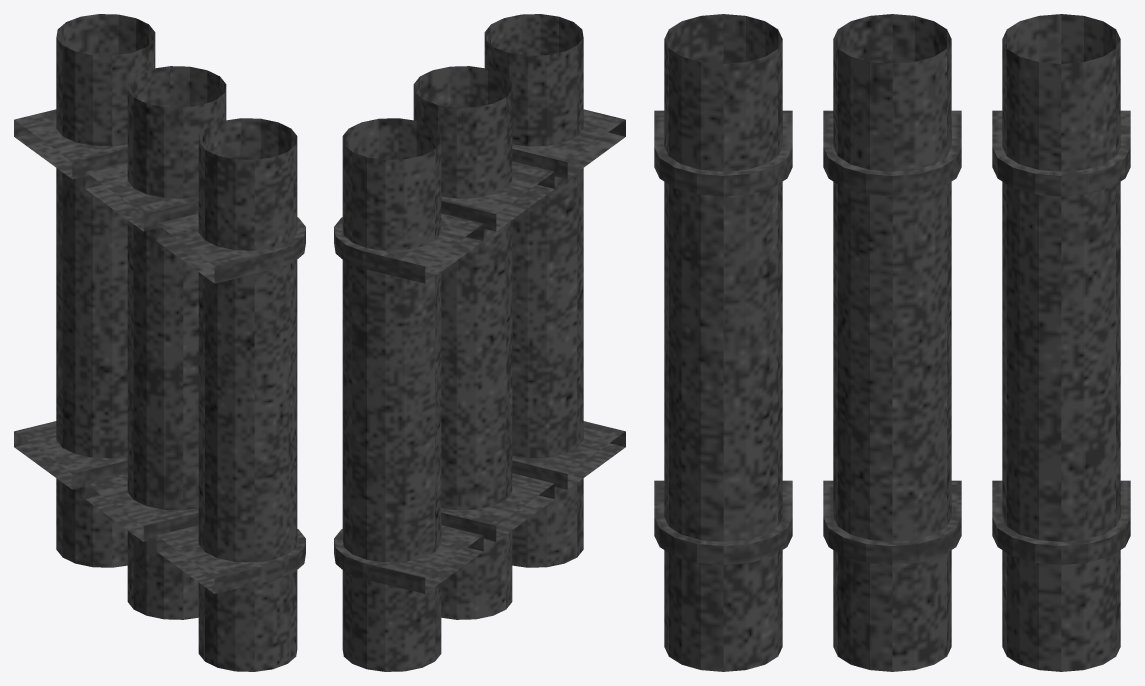
The model's file is MetalPipes1.fbx.
3 renders of one model, left to right at view 1: azimuth 30°, elevation 25°; view 2: azimuth 150°, elevation 25°; view 3: azimuth 270°, elevation 25°, orthographic. The views are drawn at different scales.
Visible parts, largest first — view 1: Cylinder.004; view 2: Cylinder.004; view 3: Cylinder.004.
Boxes of the visible parts, x1,y1,x2,y2 form: Cylinder.004: (14, 14, 305, 671); Cylinder.004: (334, 14, 625, 671); Cylinder.004: (654, 14, 1130, 671).
Size of the model in its own units: 91.64 by 397 by 282.
